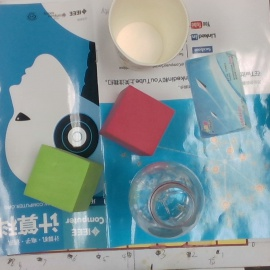bottle: (128, 160, 205, 239)
card: (184, 50, 253, 139)
cup: (108, 1, 189, 67)
